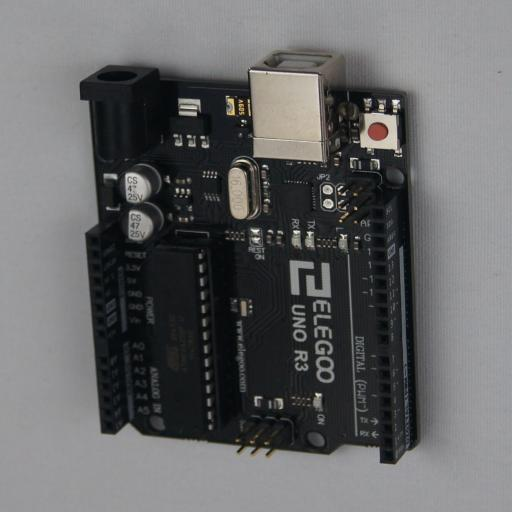Arduino Uno -Black-: (80, 50, 426, 464)
